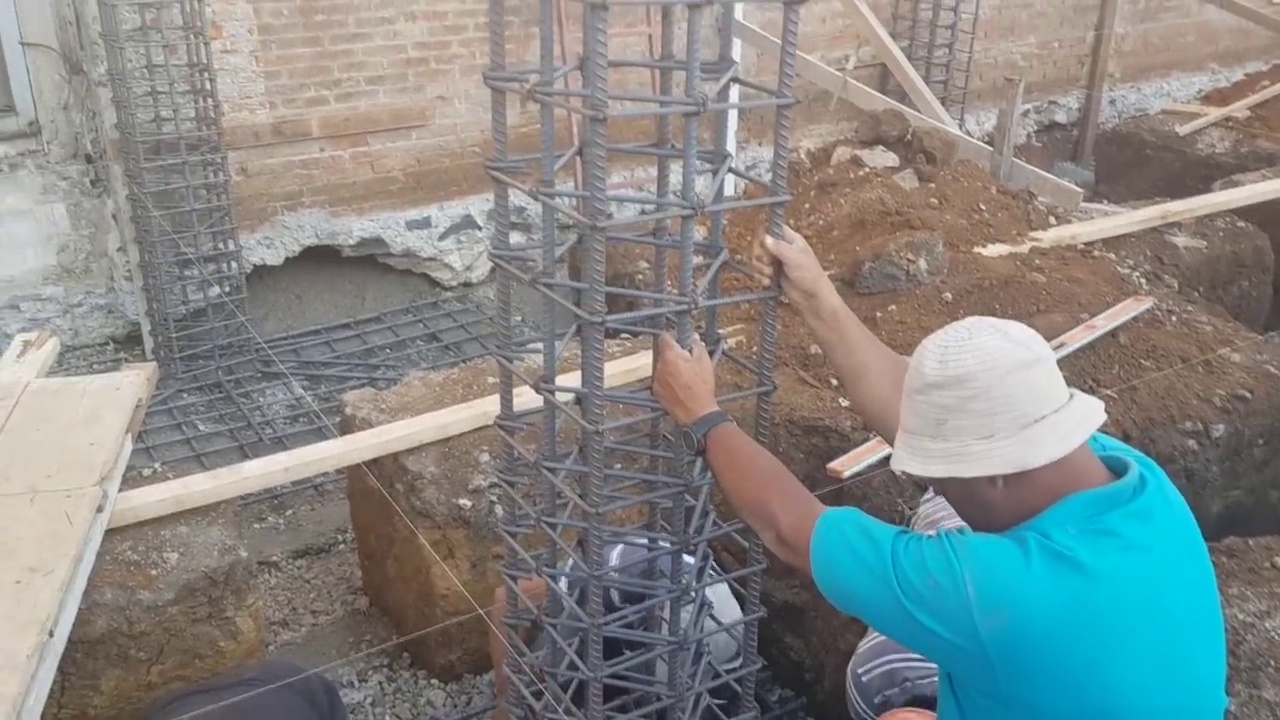helmet-off: (880, 332, 1139, 524)
person: (650, 224, 1228, 720), (492, 528, 740, 719)
